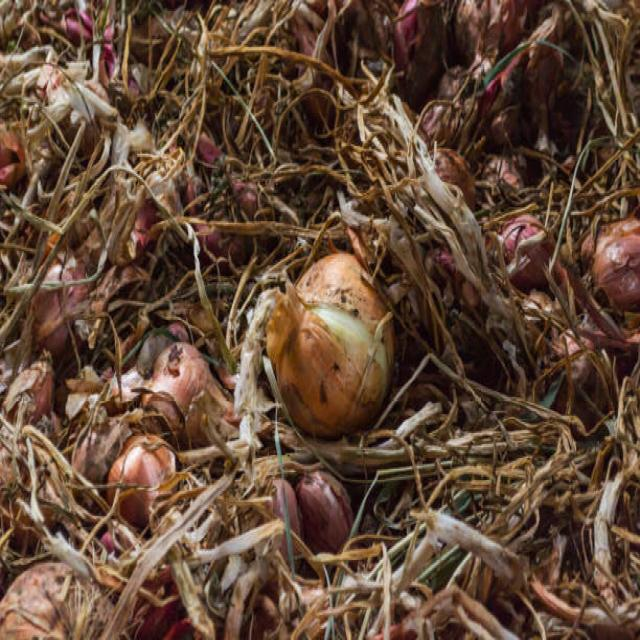sprouting: (235, 251, 394, 438)
